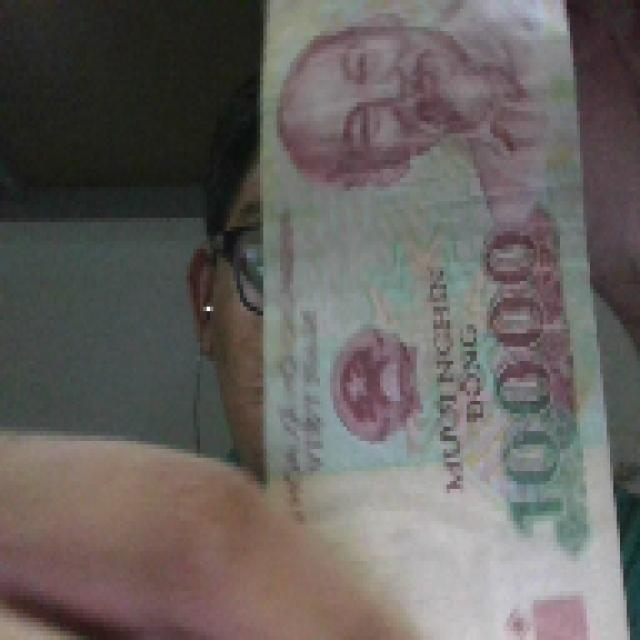10 000 VND: (253, 0, 637, 636)
